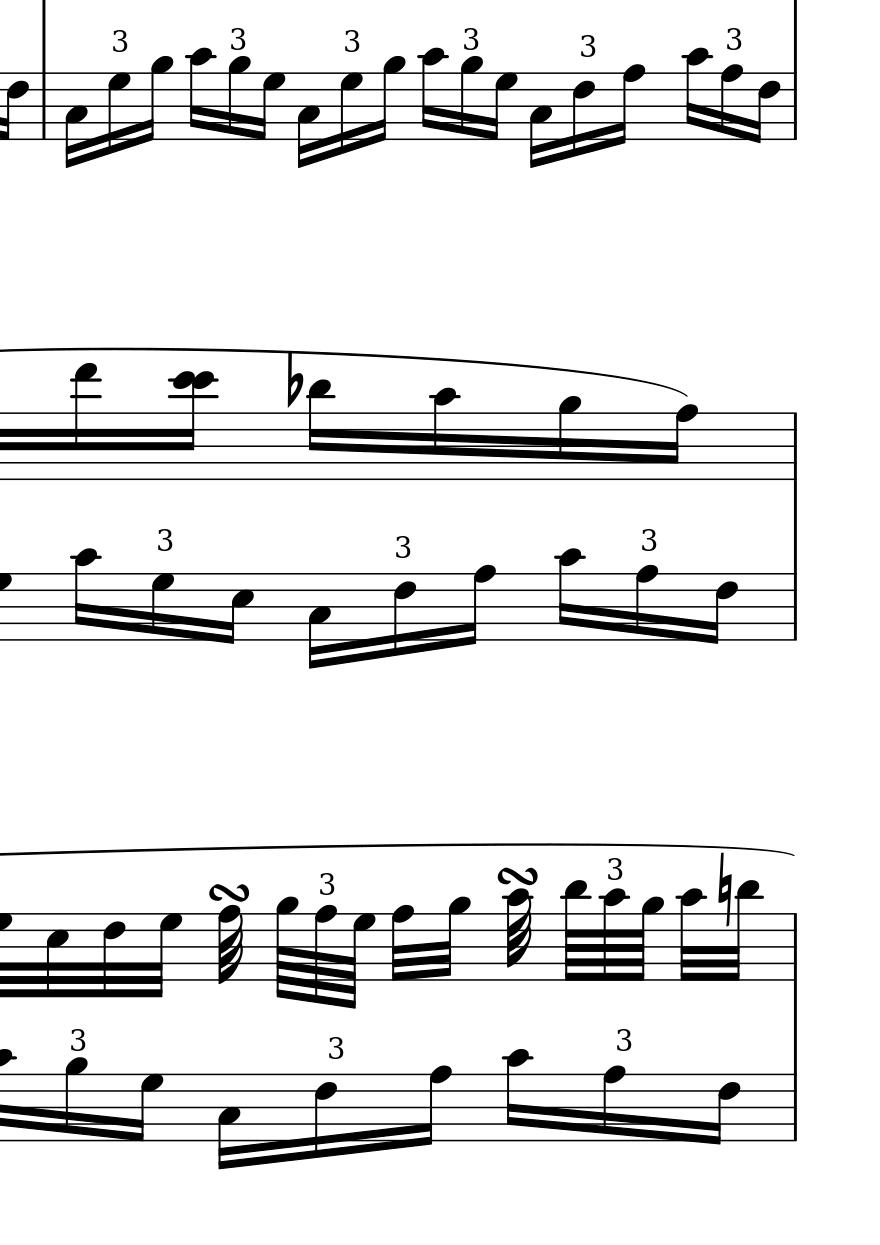16_10: (419, 47, 448, 142), (187, 46, 215, 142), (71, 547, 99, 643), (683, 47, 710, 142), (503, 1049, 530, 1144), (430, 387, 456, 482), (555, 548, 581, 643)
16_11: (305, 379, 333, 483)
16_13: (71, 364, 100, 482)
16_3: (306, 572, 331, 671), (215, 1072, 240, 1171), (62, 71, 87, 169), (527, 71, 552, 169), (295, 71, 320, 168)
16_5: (222, 572, 253, 646)
16_6: (708, 1070, 741, 1148), (705, 570, 738, 647), (750, 70, 781, 144), (312, 1071, 337, 1162), (391, 570, 416, 659), (571, 69, 595, 159), (1, 70, 29, 143)
16_7: (130, 1071, 164, 1145), (253, 71, 286, 142), (486, 71, 518, 143), (337, 69, 363, 156), (105, 69, 129, 157), (148, 570, 174, 643)
16_8: (460, 563, 494, 648), (416, 1064, 450, 1148), (612, 63, 644, 147), (666, 402, 698, 482), (633, 562, 657, 643), (718, 63, 742, 142), (601, 1063, 624, 1142)
16_9: (141, 54, 173, 145), (374, 54, 406, 145), (225, 53, 250, 142), (458, 54, 482, 142), (556, 394, 580, 482), (63, 1055, 86, 1142)
3: (67, 1026, 87, 1054), (724, 25, 743, 53), (317, 871, 336, 898), (462, 25, 480, 53), (228, 26, 247, 52), (155, 527, 174, 553), (639, 527, 658, 553), (393, 534, 412, 560), (605, 856, 624, 882), (614, 1027, 633, 1053), (111, 27, 129, 54), (343, 27, 361, 54), (579, 33, 597, 60), (327, 1035, 344, 1061)
32_10: (504, 886, 533, 981), (677, 885, 705, 982)
32_11: (727, 879, 760, 982)
32_5: (44, 911, 70, 999)
32_6: (101, 911, 126, 1000)
32_7: (147, 911, 183, 999)
32_8: (216, 905, 244, 984), (390, 902, 415, 984)
32_9: (437, 895, 469, 983)
64_10: (599, 886, 628, 983)
64_11: (562, 879, 588, 982)
64_7: (343, 912, 376, 1011)
64_8: (313, 904, 336, 1007)
64_9: (274, 896, 299, 1003), (635, 895, 664, 983)
Flat: (283, 352, 303, 410)
Natural: (715, 850, 733, 928)
Single_barline: (786, 412, 803, 479), (787, 914, 803, 980), (787, 574, 803, 639), (787, 1075, 803, 1140), (787, 73, 802, 141), (36, 72, 50, 138)
Turn: (495, 864, 540, 887), (206, 882, 253, 903)
